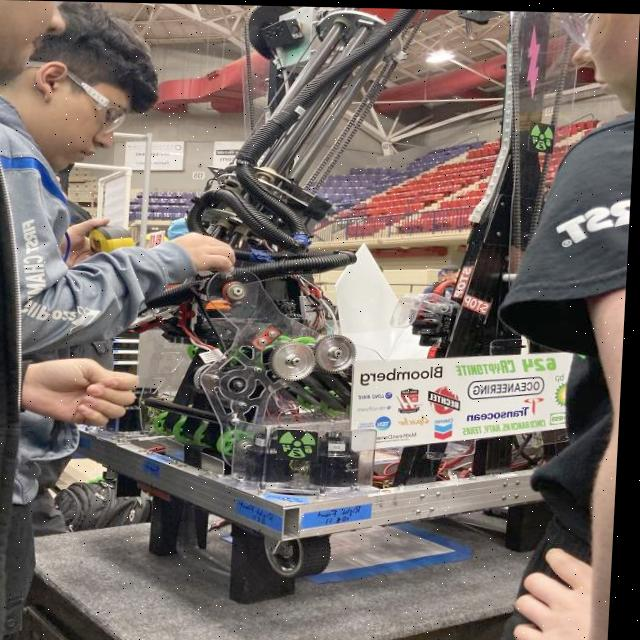robot: (39, 1, 640, 582)
